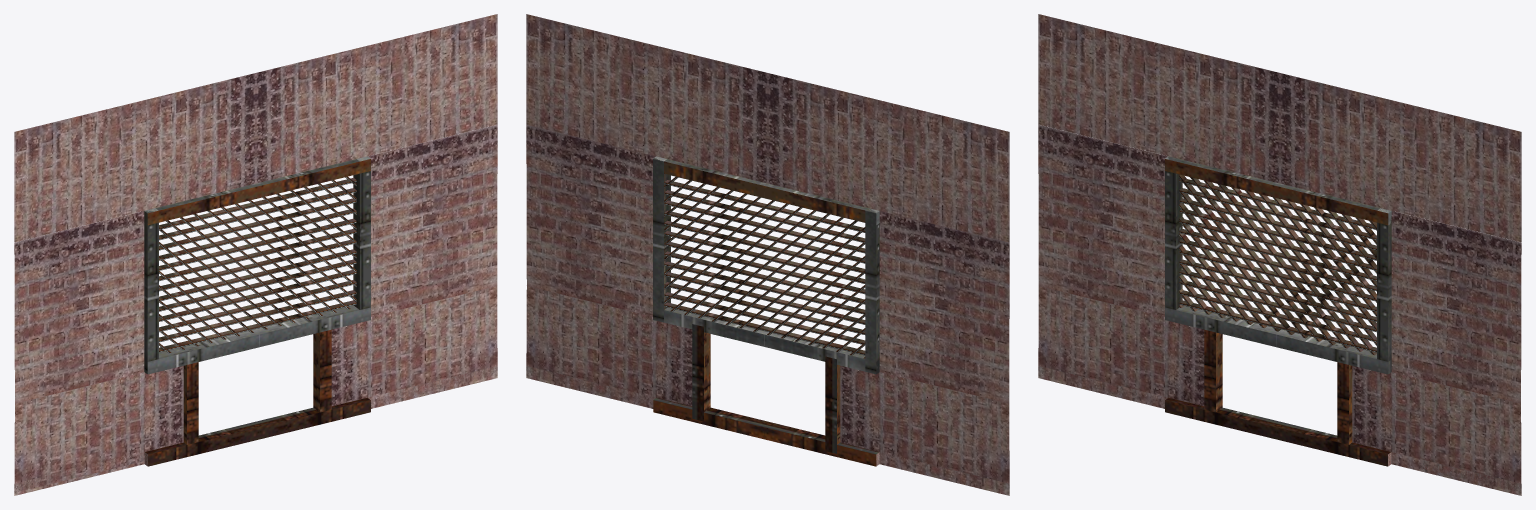
File: MeshWall.glb
3 renders of one model, left to right at view 1: azimuth 30°, elevation 25°; view 2: azimuth 150°, elevation 25°; view 3: azimuth 330°, elevation 25°, orthographic.
Parts seen in each view (by area): view 1: Cube.005, Cube.001; view 2: Cube.005, Cube.001; view 3: Cube.005, Cube.001.
Boxes of the visible parts, box(x1,y1,x2,y2) form: Cube.005: box(14, 14, 497, 495); Cube.001: box(159, 176, 356, 353); Cube.005: box(526, 14, 1009, 495); Cube.001: box(664, 173, 865, 358); Cube.005: box(1038, 14, 1521, 495); Cube.001: box(1179, 174, 1376, 355).
Bounding box in the file's own units: 3.69 × 2.65 × 0.0887.
Materials: 2 (2 with a texture image).
